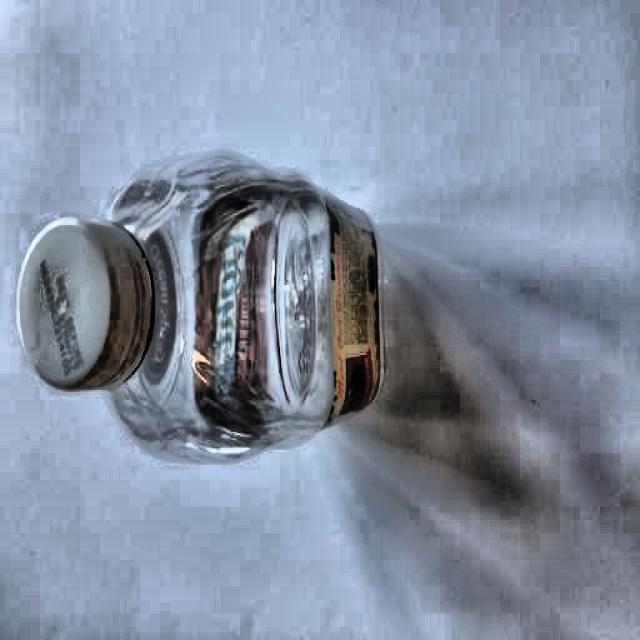plastic: (20, 150, 388, 468)
